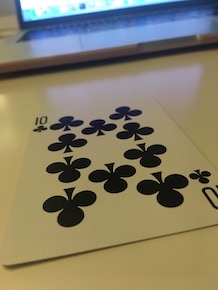TenOfClubs: (1, 92, 218, 269)
